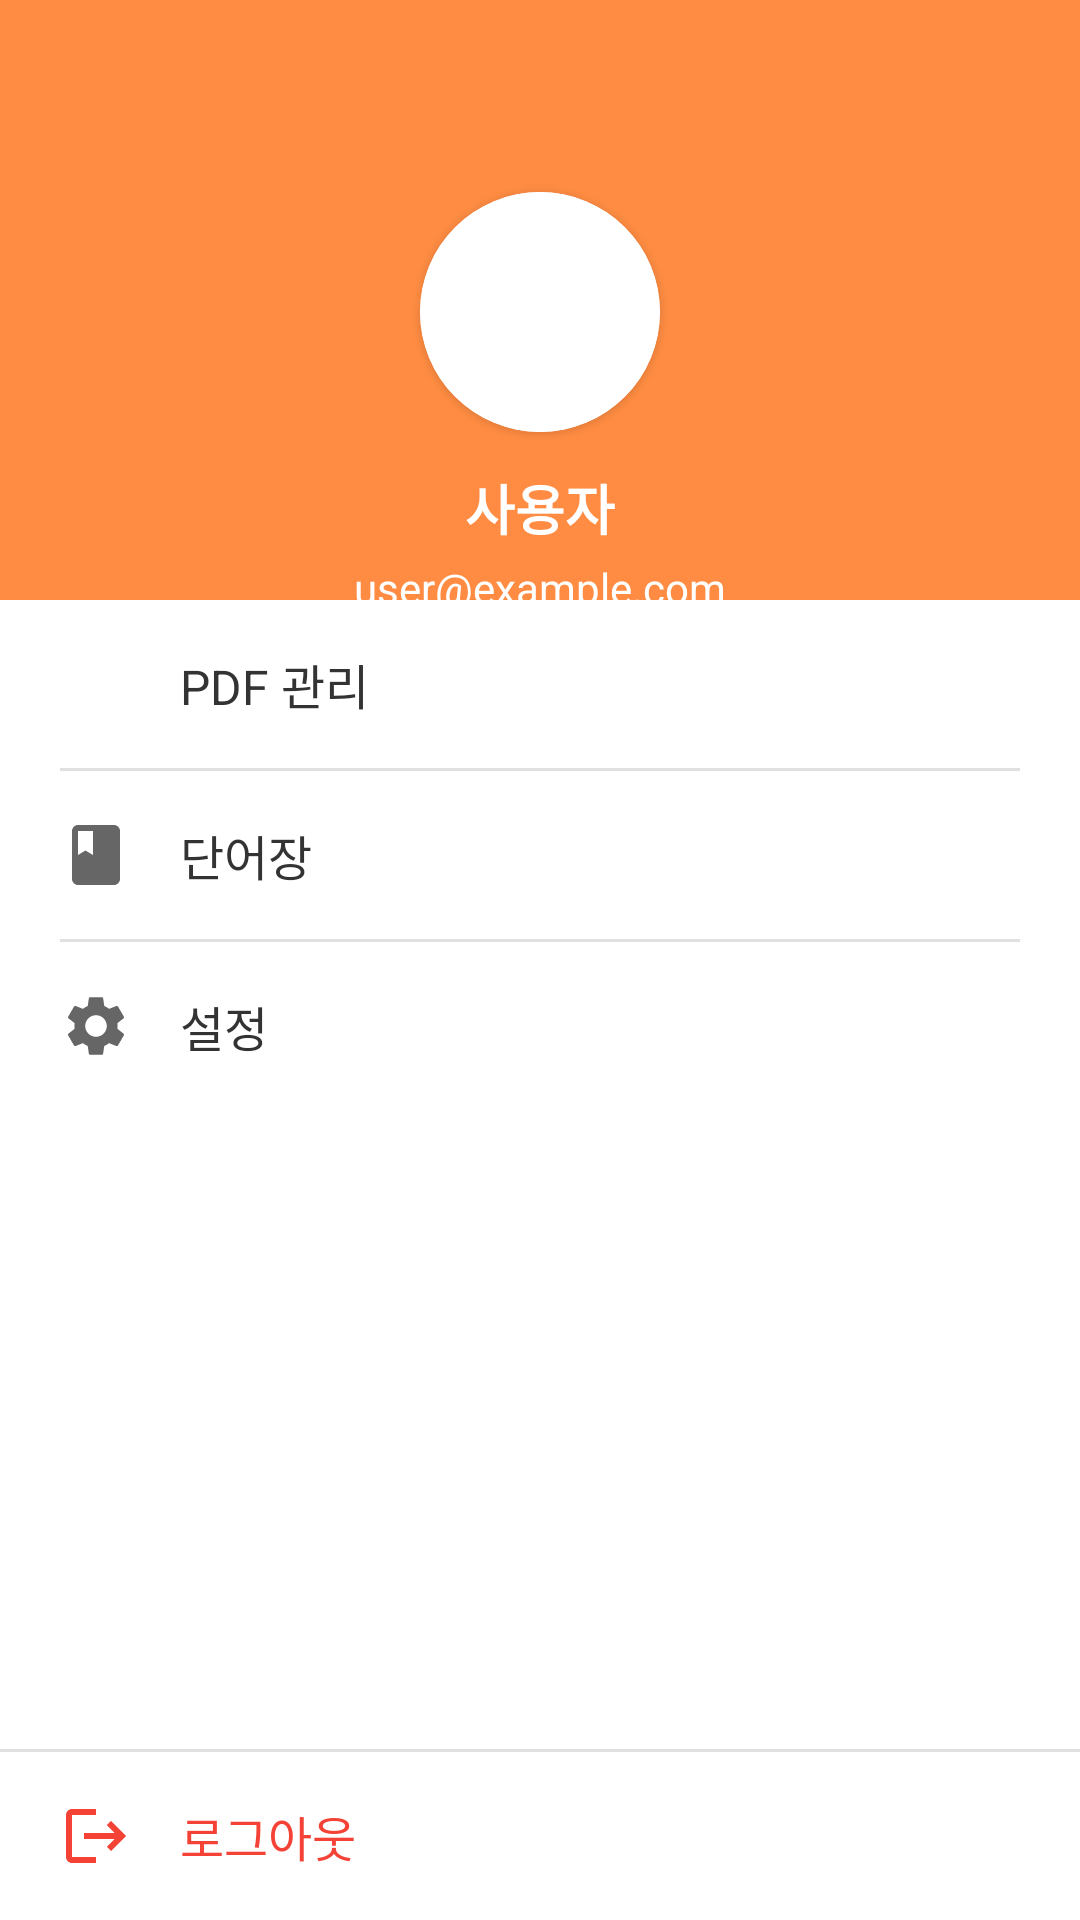

Named icons in this screenshot (1080px x 1920px) and their centers, point (x, y):
book: point (96, 855)
settings: point (96, 1026)
